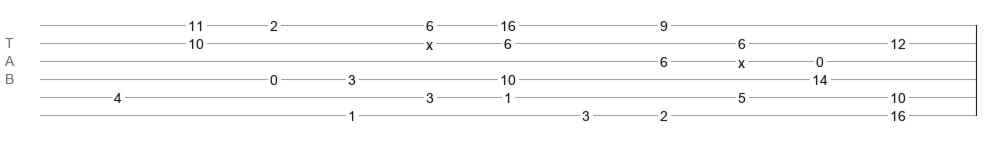0: (270, 72, 278, 82), (816, 54, 824, 64)
1: (348, 108, 356, 118), (504, 90, 512, 100)
10: (188, 36, 204, 46), (500, 72, 516, 82), (890, 90, 906, 100)
11: (188, 18, 204, 28)
12: (890, 36, 906, 46)
14: (812, 72, 828, 82)
16: (500, 18, 516, 28), (890, 108, 906, 118)
2: (270, 18, 278, 28), (660, 108, 668, 118)
3: (348, 72, 356, 82), (426, 90, 434, 100), (582, 108, 590, 118)
4: (114, 90, 122, 100)
5: (738, 90, 746, 100)
6: (426, 18, 434, 28), (504, 36, 512, 46), (660, 54, 668, 64), (738, 36, 746, 46)
9: (660, 18, 668, 28)
x: (426, 37, 433, 45), (738, 55, 745, 63)
